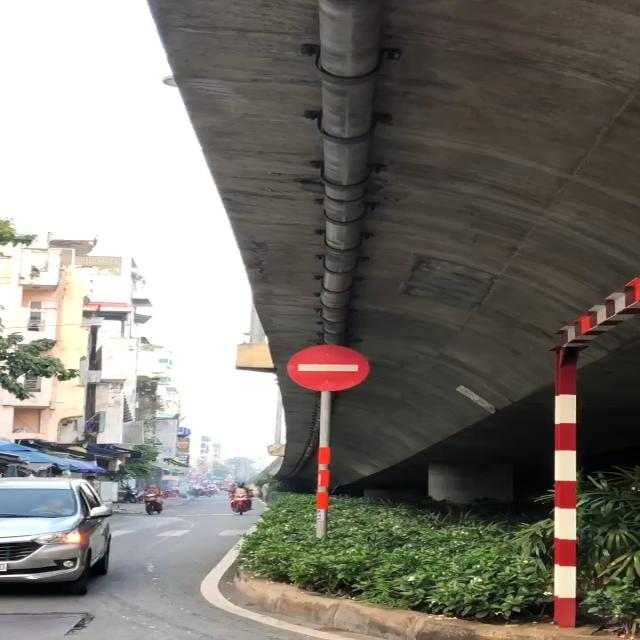Bien bao cam di nguoc chieu: (284, 339, 370, 392)
